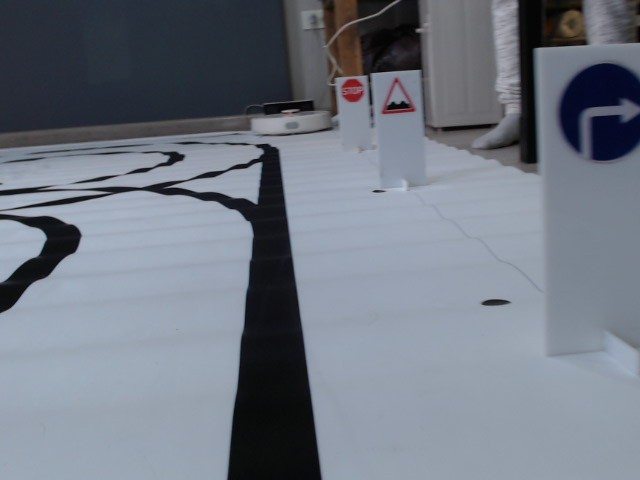Nerov: (381, 76, 417, 115)
Right: (557, 62, 640, 165)
